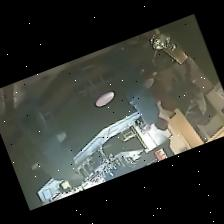person: (17, 95, 82, 186), (109, 48, 168, 129), (171, 59, 206, 117)
